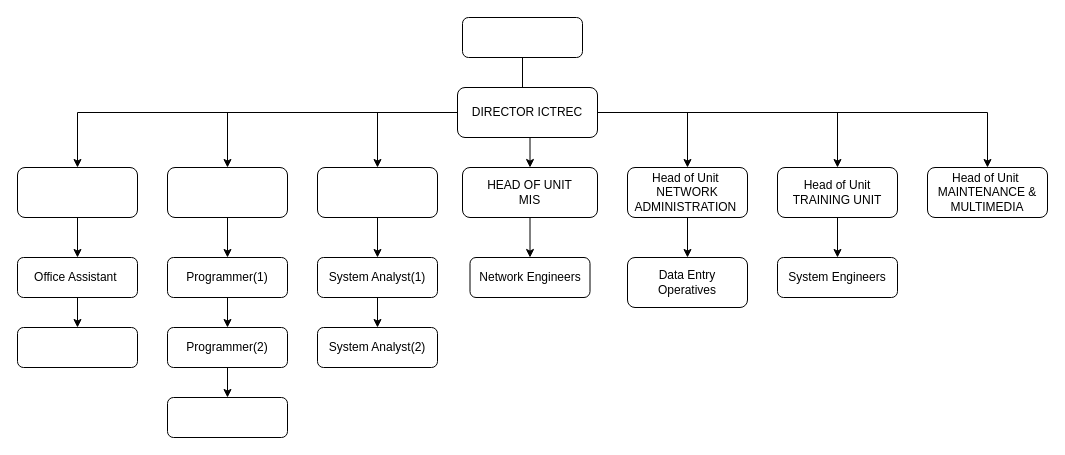
This 1065x455 diagram has some shape labels left out. Each missing label, with the centre of its shape:
Clerk: the point at 77,347
FUNAAB: the point at 522,37
Head Of Unit OPEN USER: the point at 377,192
Head of Unit PDU: the point at 227,192
Programmer(3): the point at 227,417
Secretary: the point at 77,192
